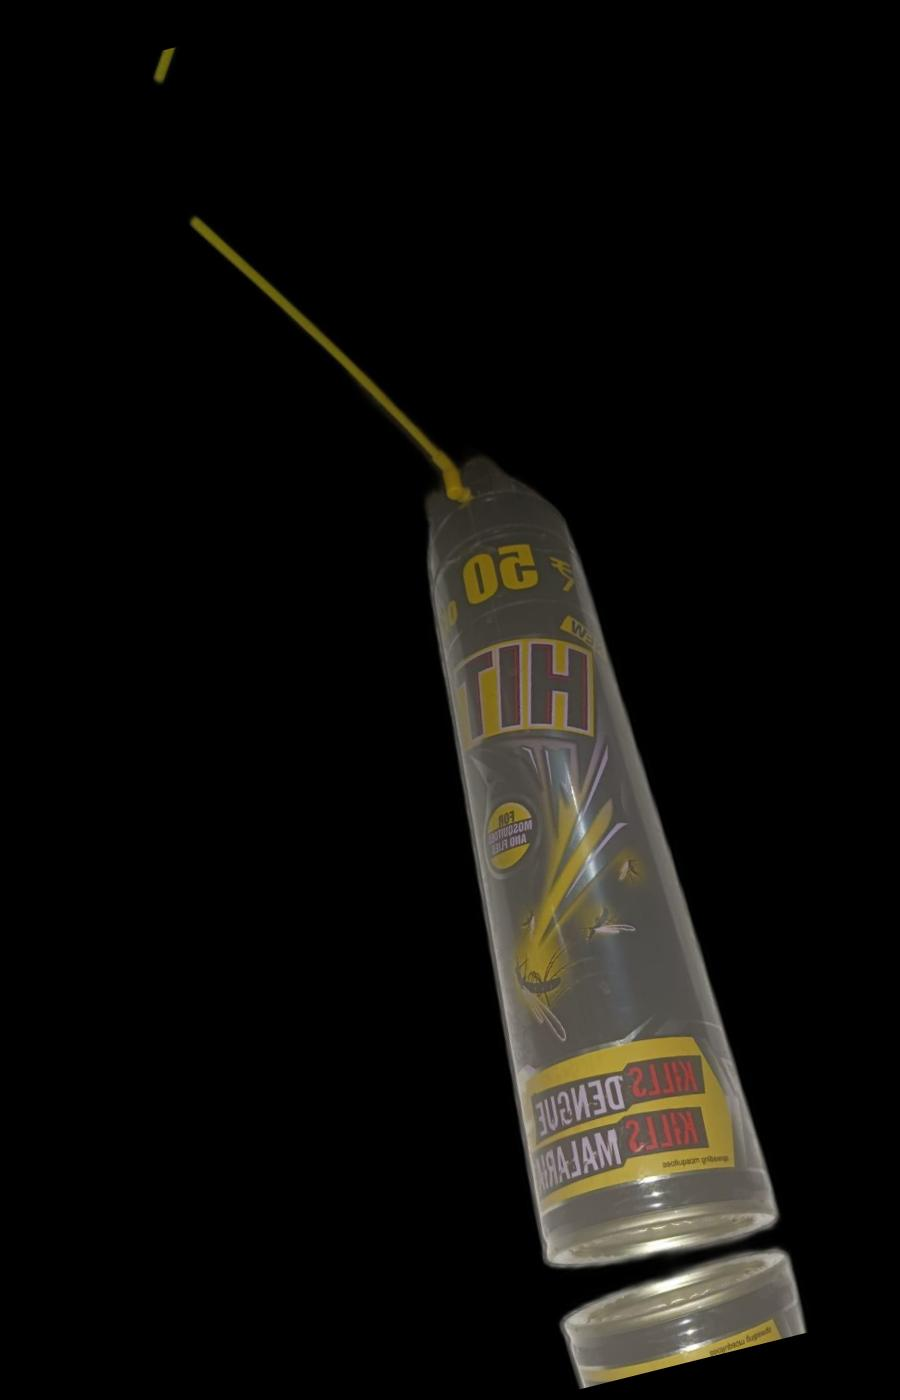HIT Mosquito - Fly Killer Spray700 ml: (364, 441, 788, 1276)
